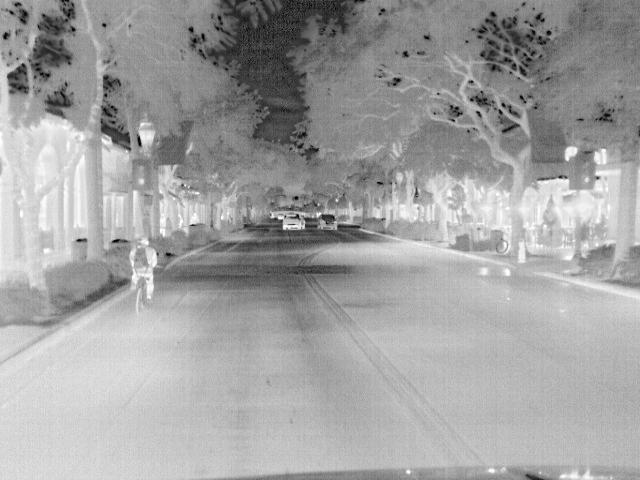car: (316, 209, 338, 231), (281, 214, 305, 232)
person: (131, 235, 159, 304), (155, 211, 168, 237), (186, 210, 200, 224)
